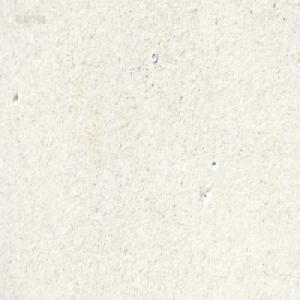Washer: (150, 50, 157, 62)
